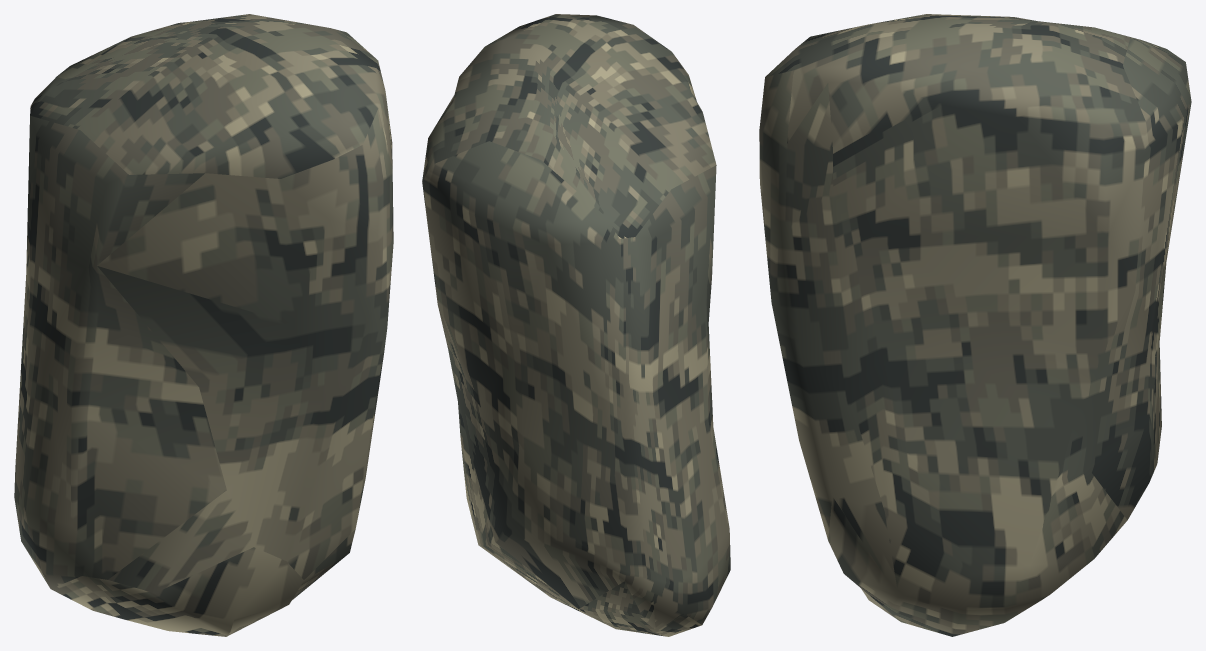
The model's file is rockMedium03.fbx.
3 views of the same model, side by side, from view 1: azimuth 30°, elevation 25°; view 2: azimuth 150°, elevation 25°; view 3: azimuth 270°, elevation 25° (orthographic). The views are drawn at different scales.
Visible parts, largest first — view 1: RockMedium3; view 2: RockMedium3; view 3: RockMedium3.
Boxes of the visible parts, x1,y1,x2,y2 form: RockMedium3: [14, 14, 393, 636]; RockMedium3: [422, 14, 730, 636]; RockMedium3: [759, 14, 1191, 636].
Bounding box in the file's own units: 21.22 × 41.96 × 25.92.
